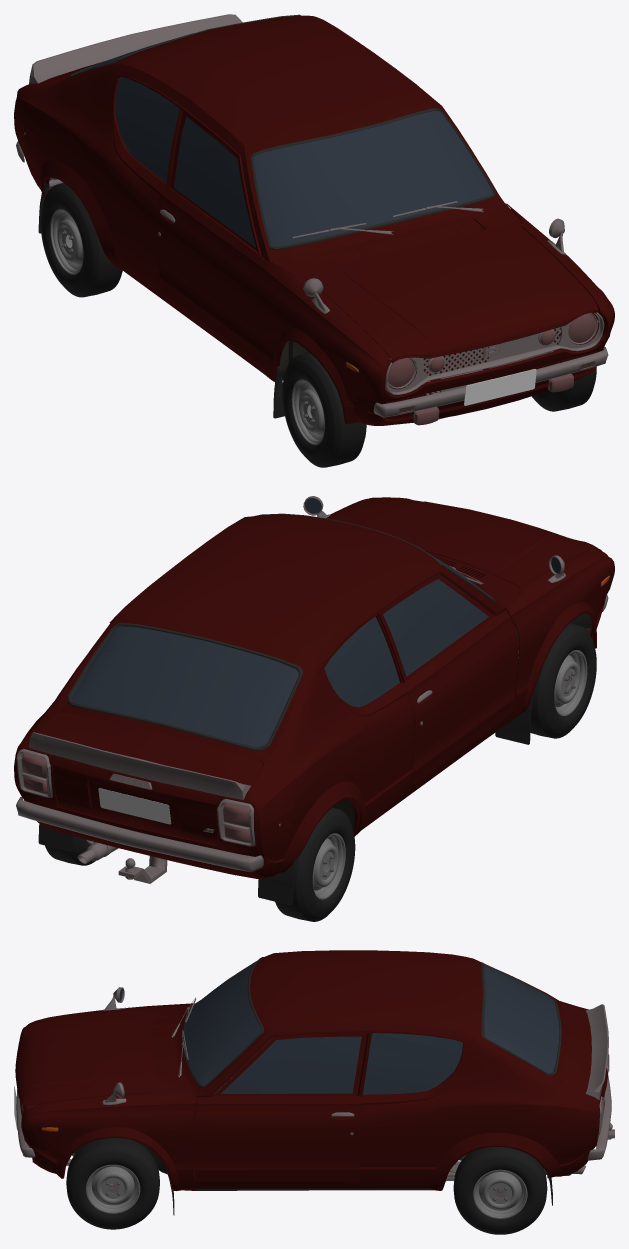
File: satsuma.obj
3 views of the same model, one above another, from view 1: azimuth 30°, elevation 25°; view 2: azimuth 150°, elevation 25°; view 3: azimuth 270°, elevation 25° (orthographic). The views are drawn at different scales.
Size of the model in its own units: 1.54 by 1.37 by 3.65.
